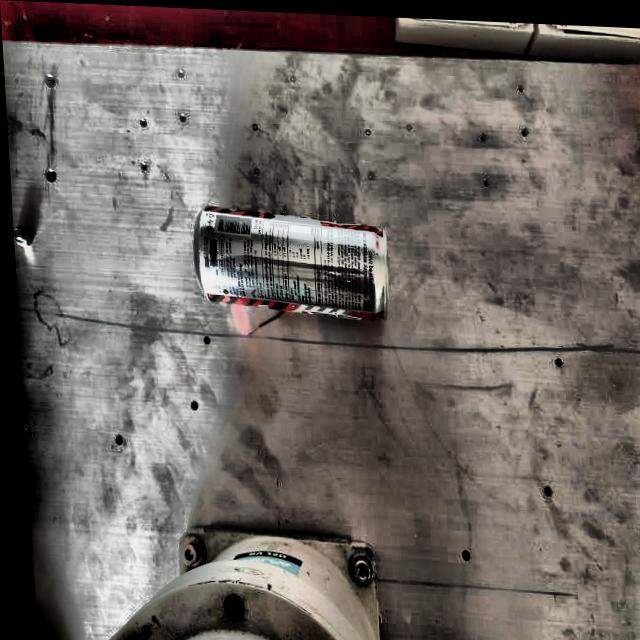can: (177, 183, 397, 326)
